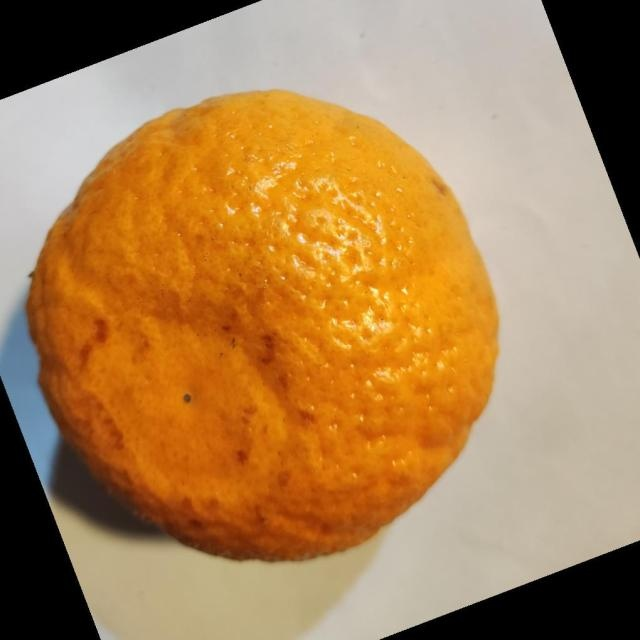agrume: (25, 87, 500, 563)
